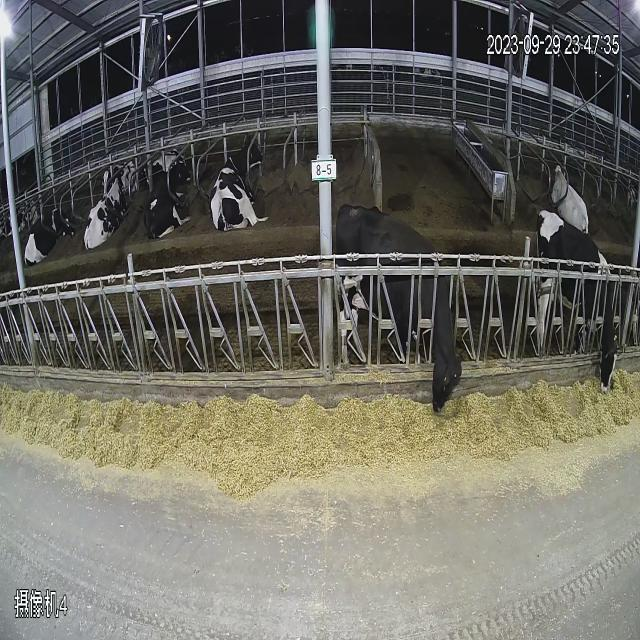feeding: (320, 175, 501, 442), (523, 194, 640, 437)
lying down: (202, 108, 282, 282), (78, 143, 142, 257), (140, 140, 194, 248), (544, 136, 601, 234), (18, 164, 71, 269)
